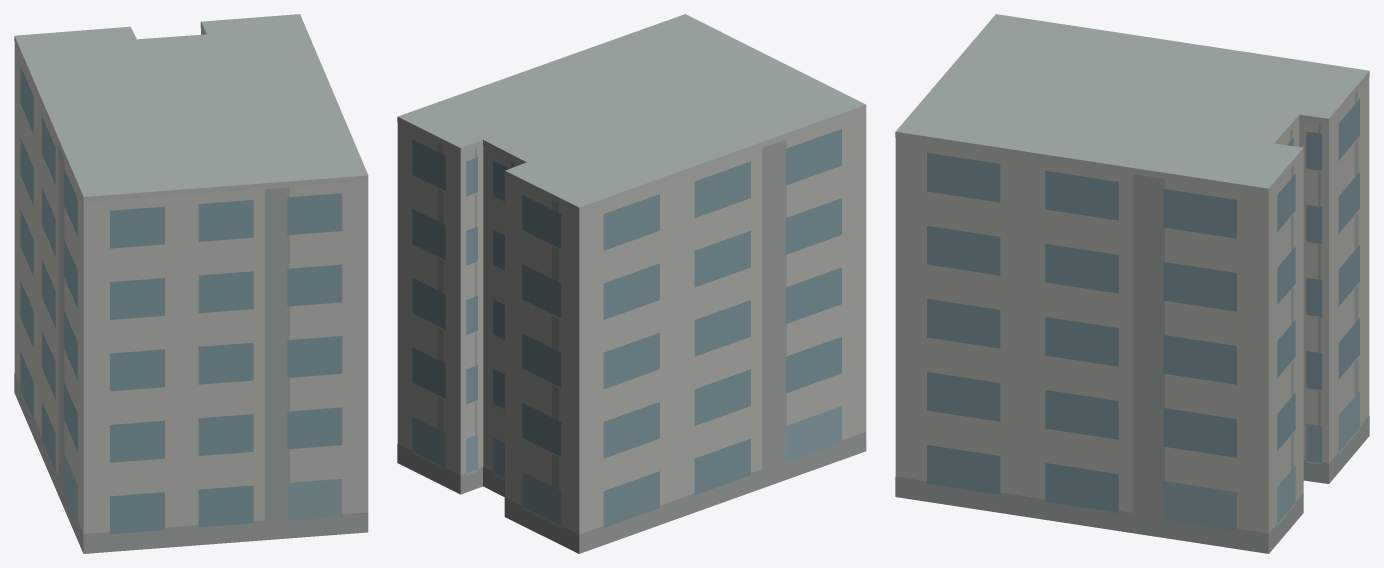
Rendered from survey-upis-32888521.glb.
3 renders of one model, left to right at view 1: azimuth 30°, elevation 25°; view 2: azimuth 150°, elevation 25°; view 3: azimuth 270°, elevation 25°, orthographic. The views are drawn at different scales.
Visible parts, largest first — view 1: survey-upis-32888521.tmp; view 2: survey-upis-32888521.tmp; view 3: survey-upis-32888521.tmp.
Boxes of the visible parts, bbox=[...] form: survey-upis-32888521.tmp: bbox=[14, 14, 368, 553]; survey-upis-32888521.tmp: bbox=[397, 14, 866, 553]; survey-upis-32888521.tmp: bbox=[895, 14, 1369, 553].
Size of the model in its own units: 14.78 by 14.4 by 16.95.
